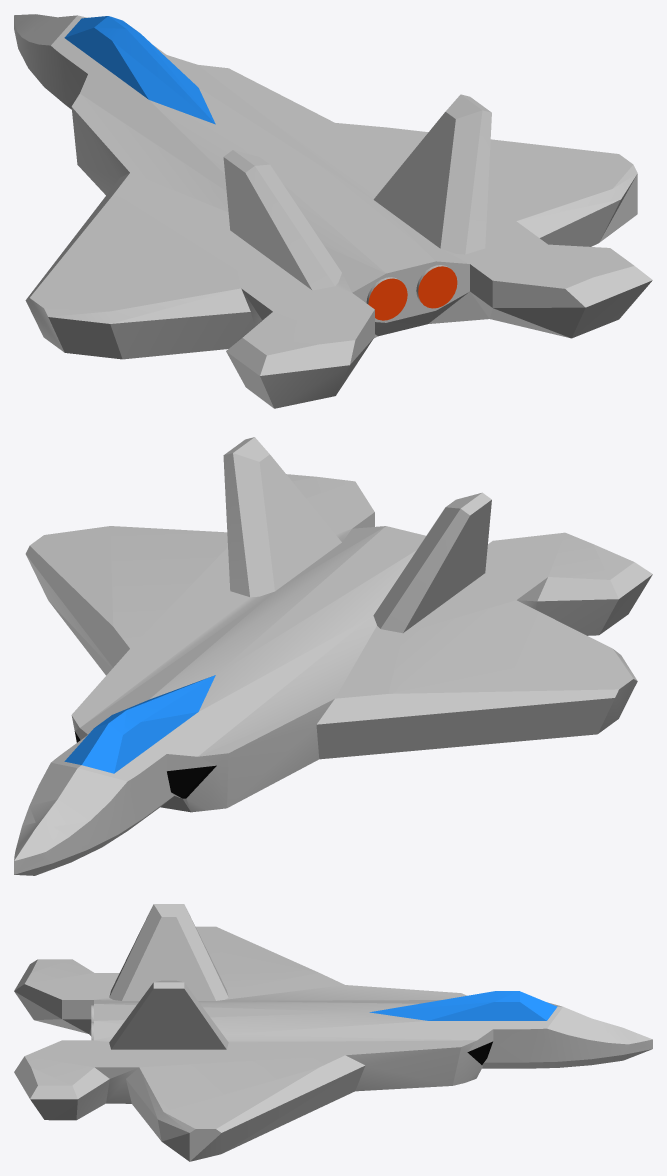
3 renders of one model, top to bottom at view 1: azimuth 30°, elevation 25°; view 2: azimuth 150°, elevation 25°; view 3: azimuth 270°, elevation 25°, orthographic. The views are drawn at different scales.
Visible parts, largest first — view 1: group_0 (×4); view 2: group_0 (×3); view 3: group_0 (×2).
Boxes of the visible parts, x1,y1,x2,y2 form: group_0 (×4): (14, 14, 652, 408); group_0 (×3): (14, 437, 652, 875); group_0 (×2): (14, 904, 652, 1161).
Bounding box in the file's own units: 1117 × 1489 × 302.
